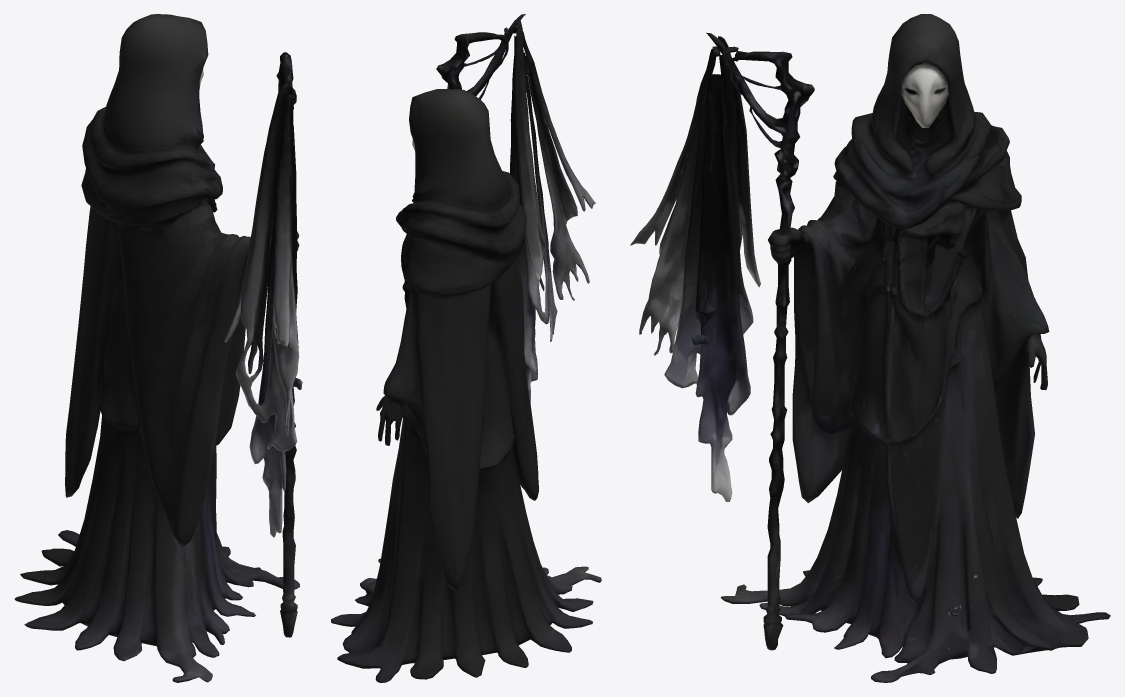
3 renders of one model, left to right at view 1: azimuth 30°, elevation 25°; view 2: azimuth 150°, elevation 25°; view 3: azimuth 270°, elevation 25°, orthographic. The views are drawn at different scales.
Visible parts, largest first — view 1: tripo_node_ee3e6110-accf-4856-9b62-1135c4655c1c; view 2: tripo_node_ee3e6110-accf-4856-9b62-1135c4655c1c; view 3: tripo_node_ee3e6110-accf-4856-9b62-1135c4655c1c.
Part boxes in pixels (left/top/right/bottom): tripo_node_ee3e6110-accf-4856-9b62-1135c4655c1c: left=14, top=14, right=302, bottom=682; tripo_node_ee3e6110-accf-4856-9b62-1135c4655c1c: left=331, top=14, right=601, bottom=682; tripo_node_ee3e6110-accf-4856-9b62-1135c4655c1c: left=630, top=14, right=1110, bottom=682.
Size of the model in its own units: 0.4481 by 1 by 0.7182.
Materials: 1 (1 with a texture image).
